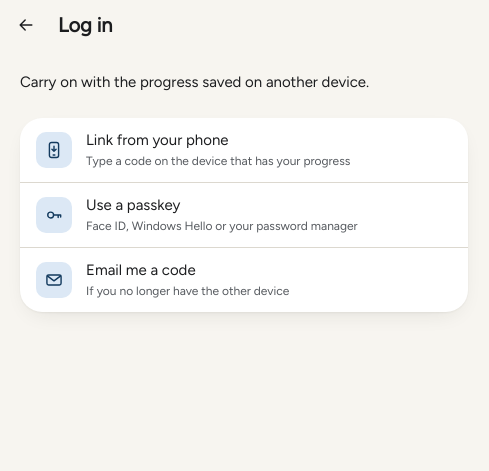
Test: LogInScreen › logs in with an emailed code, and says why a code failed
This screenshot has width=489, height=471.
Click the button "Email me a code If you no longer have the other device" at (54, 280), box [20,248,468,312]
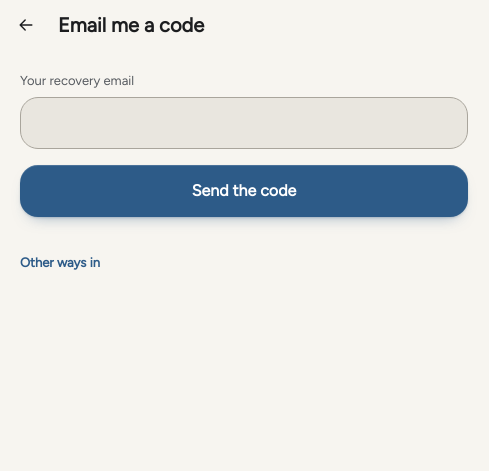
Type "me@example.com" into the field labelled "Your recovery email" at (244, 122), box [20,96,468,148]
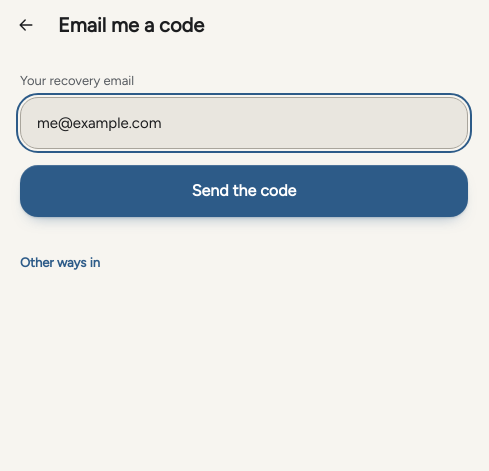
Click the button "Send the code" at (244, 190), box [20,164,468,216]
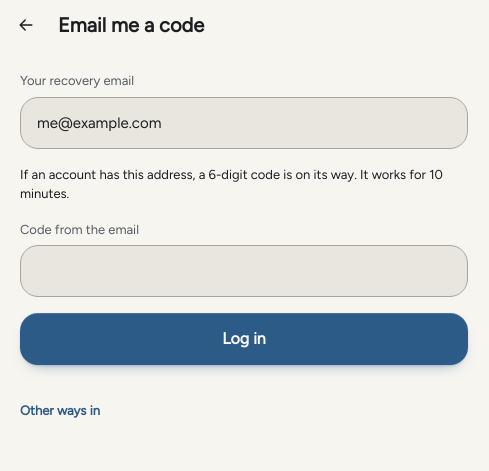
Type "123456" into the field labelled "Code from the email" at (244, 271), box [20,245,468,297]
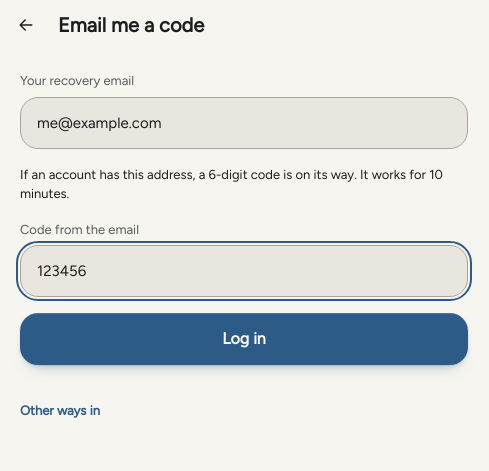
Click the button "Log in" at (244, 339), box [20,313,468,365]
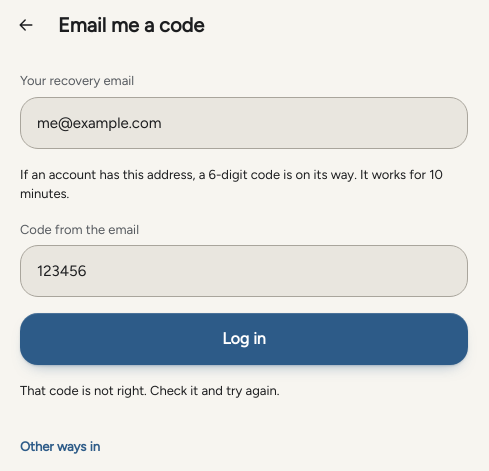
Check: the message shows "not right", box [20,383,279,398]
